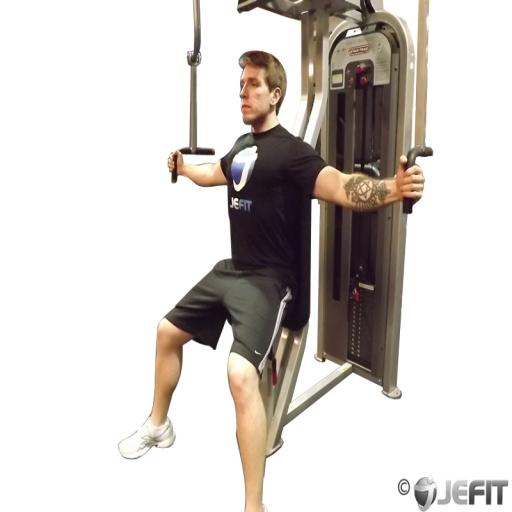exercise: (116, 49, 425, 510)
